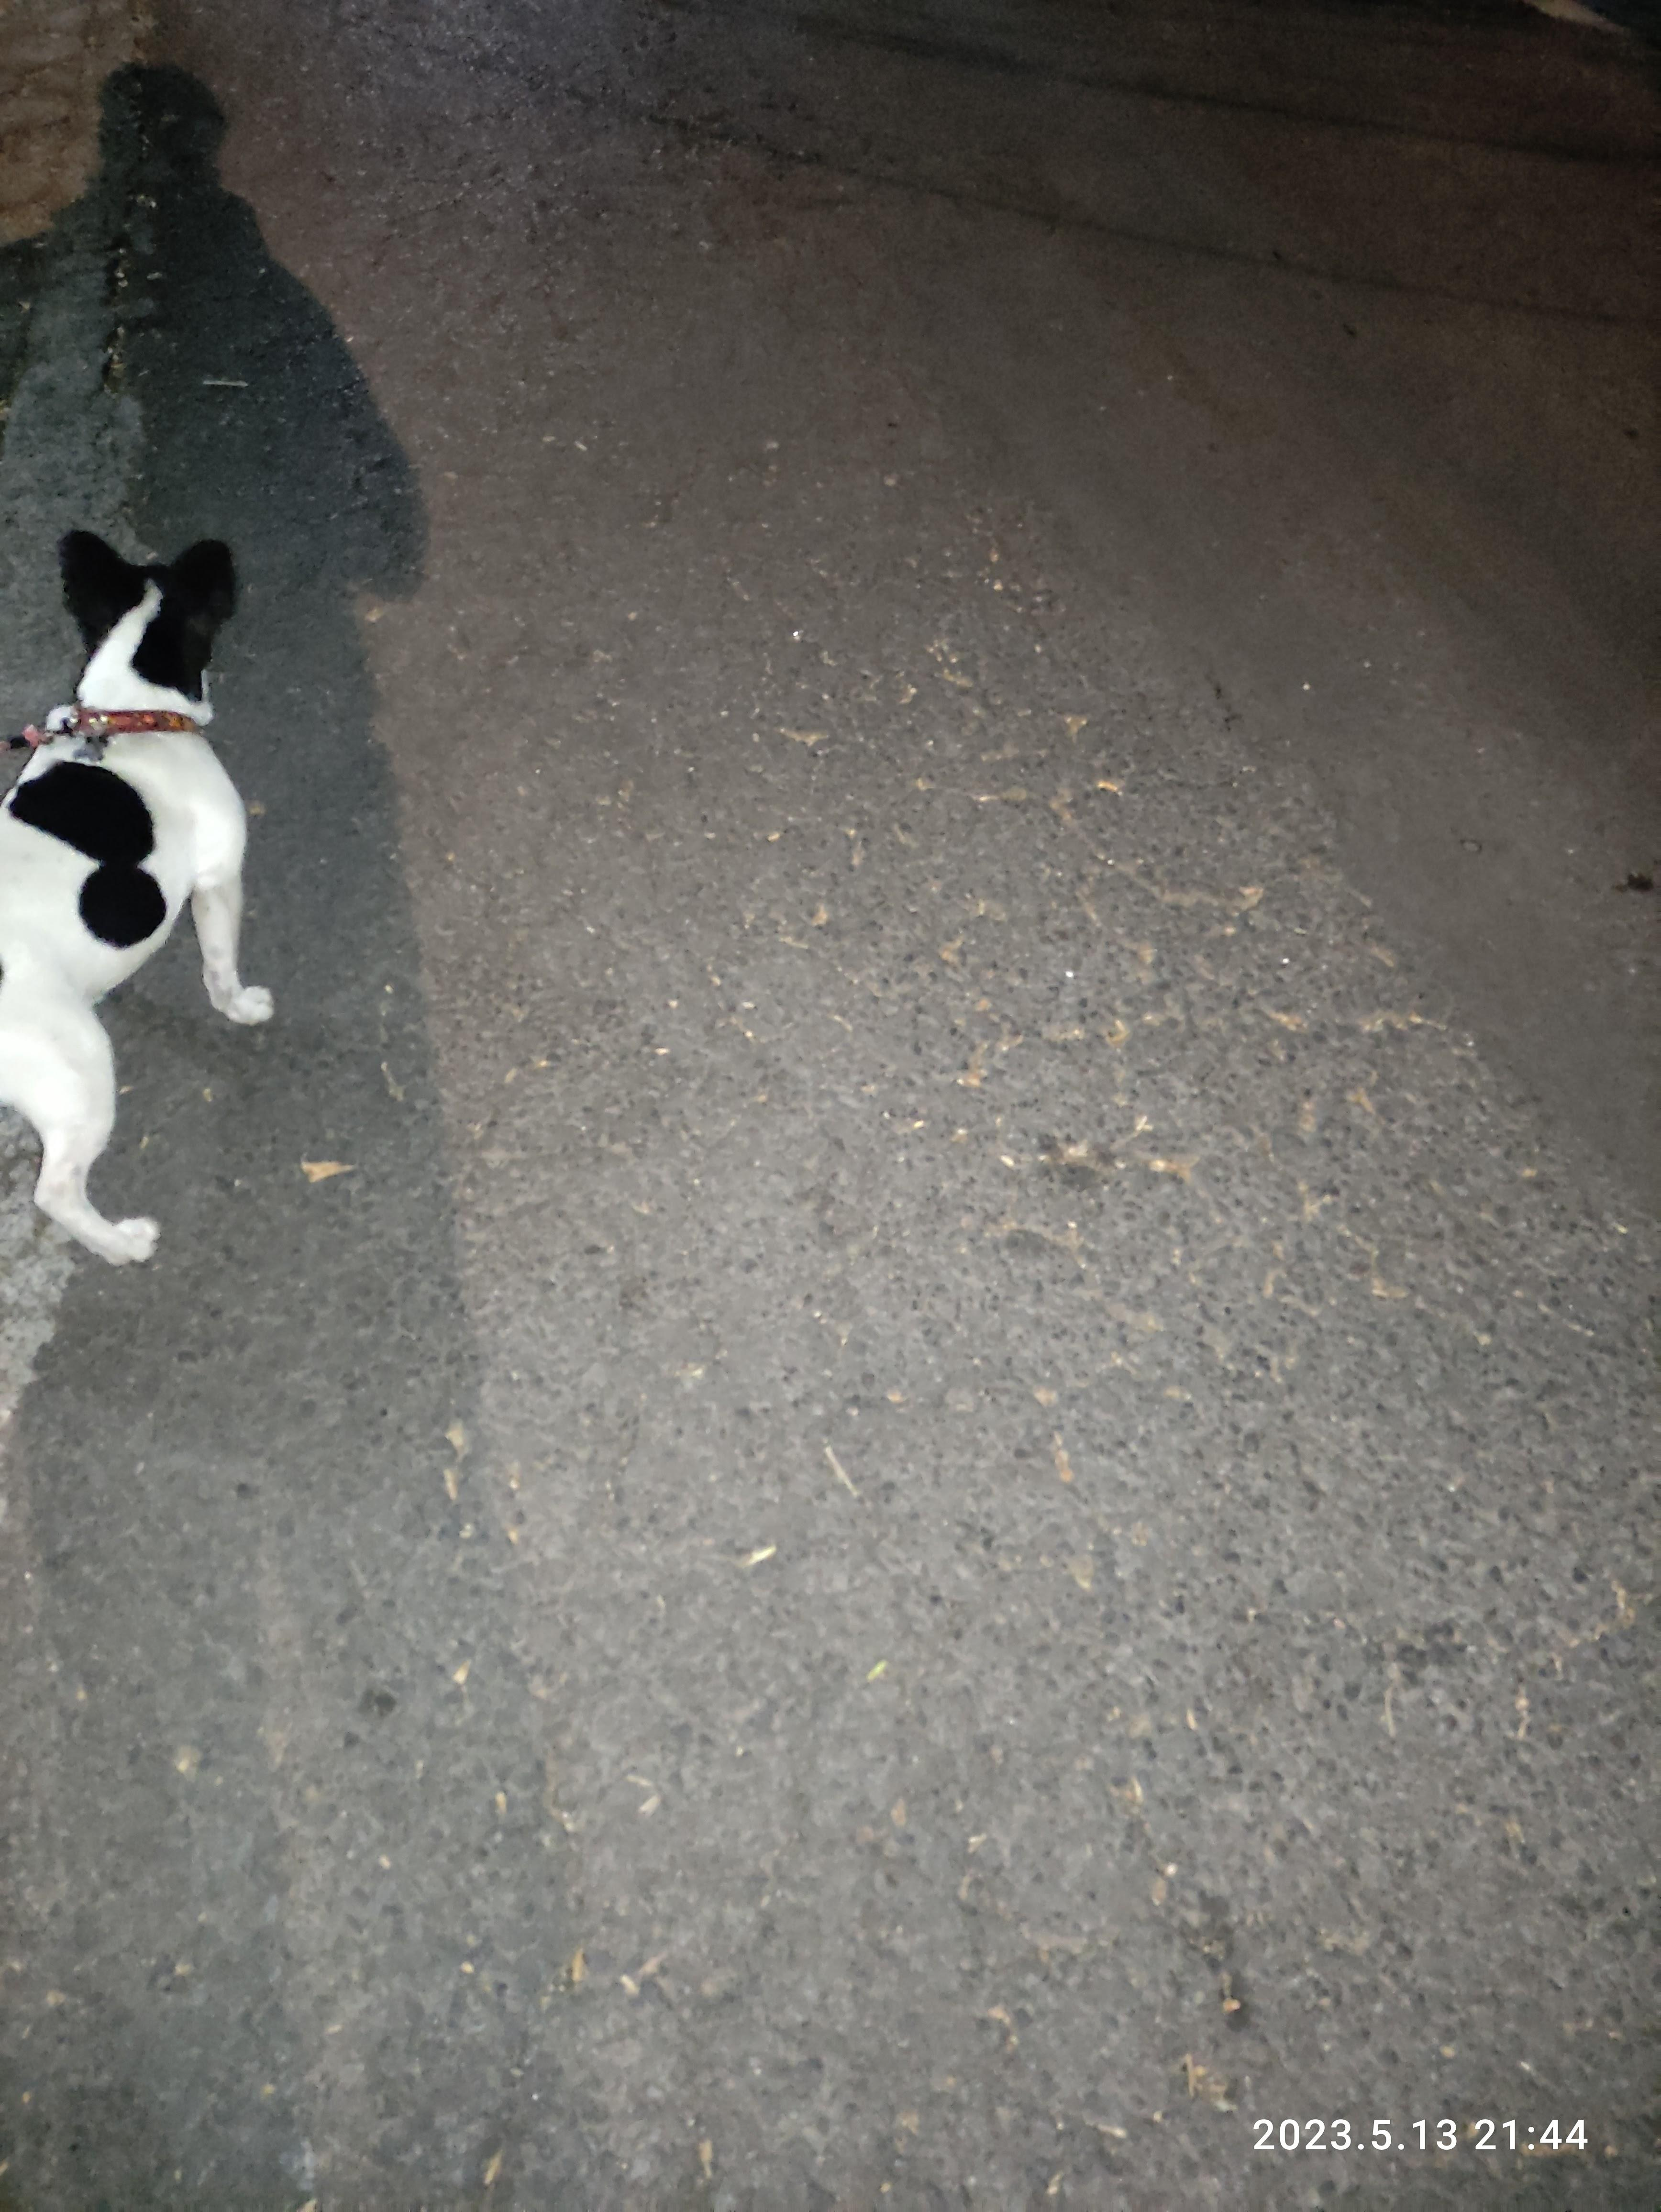alligator-crack: (632, 555, 1623, 1540)
